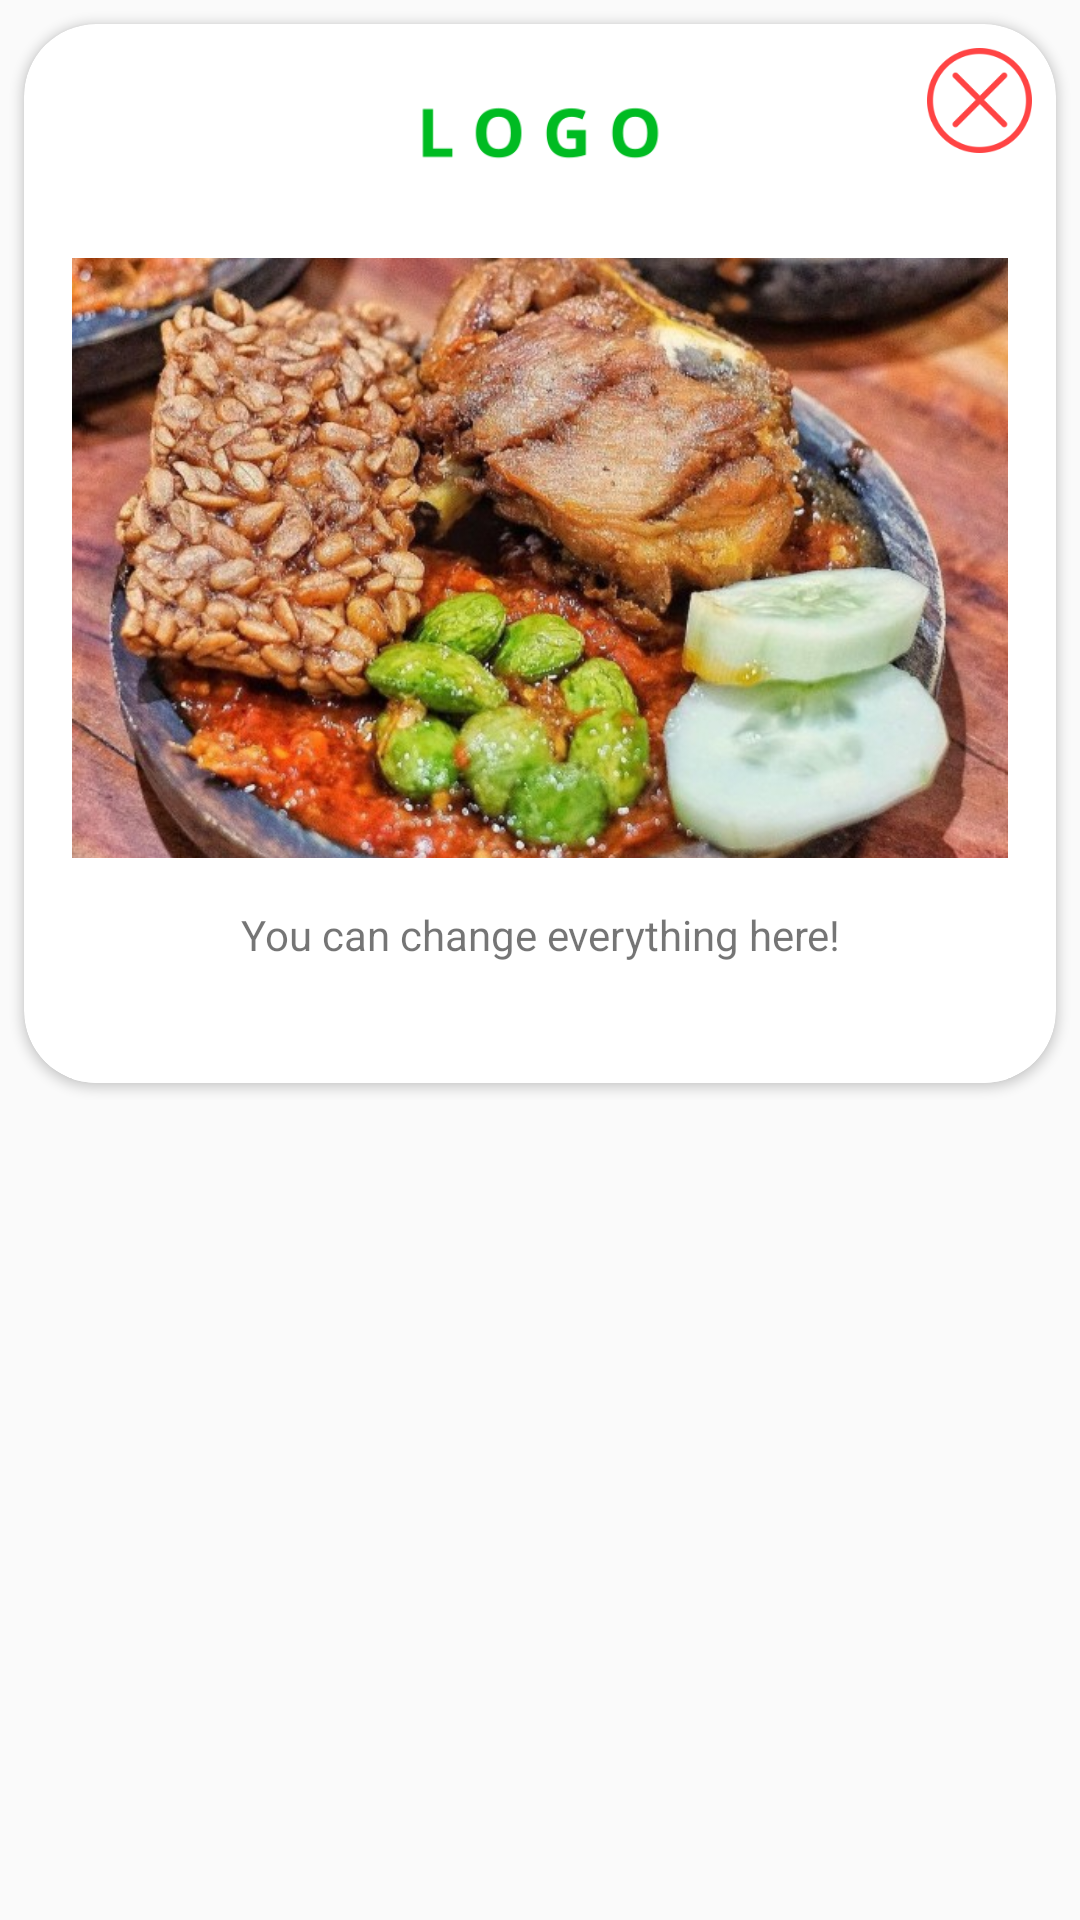

Icon click points for this 1080x1920 phone screenshot, format (x,y):
close: (979,100)
